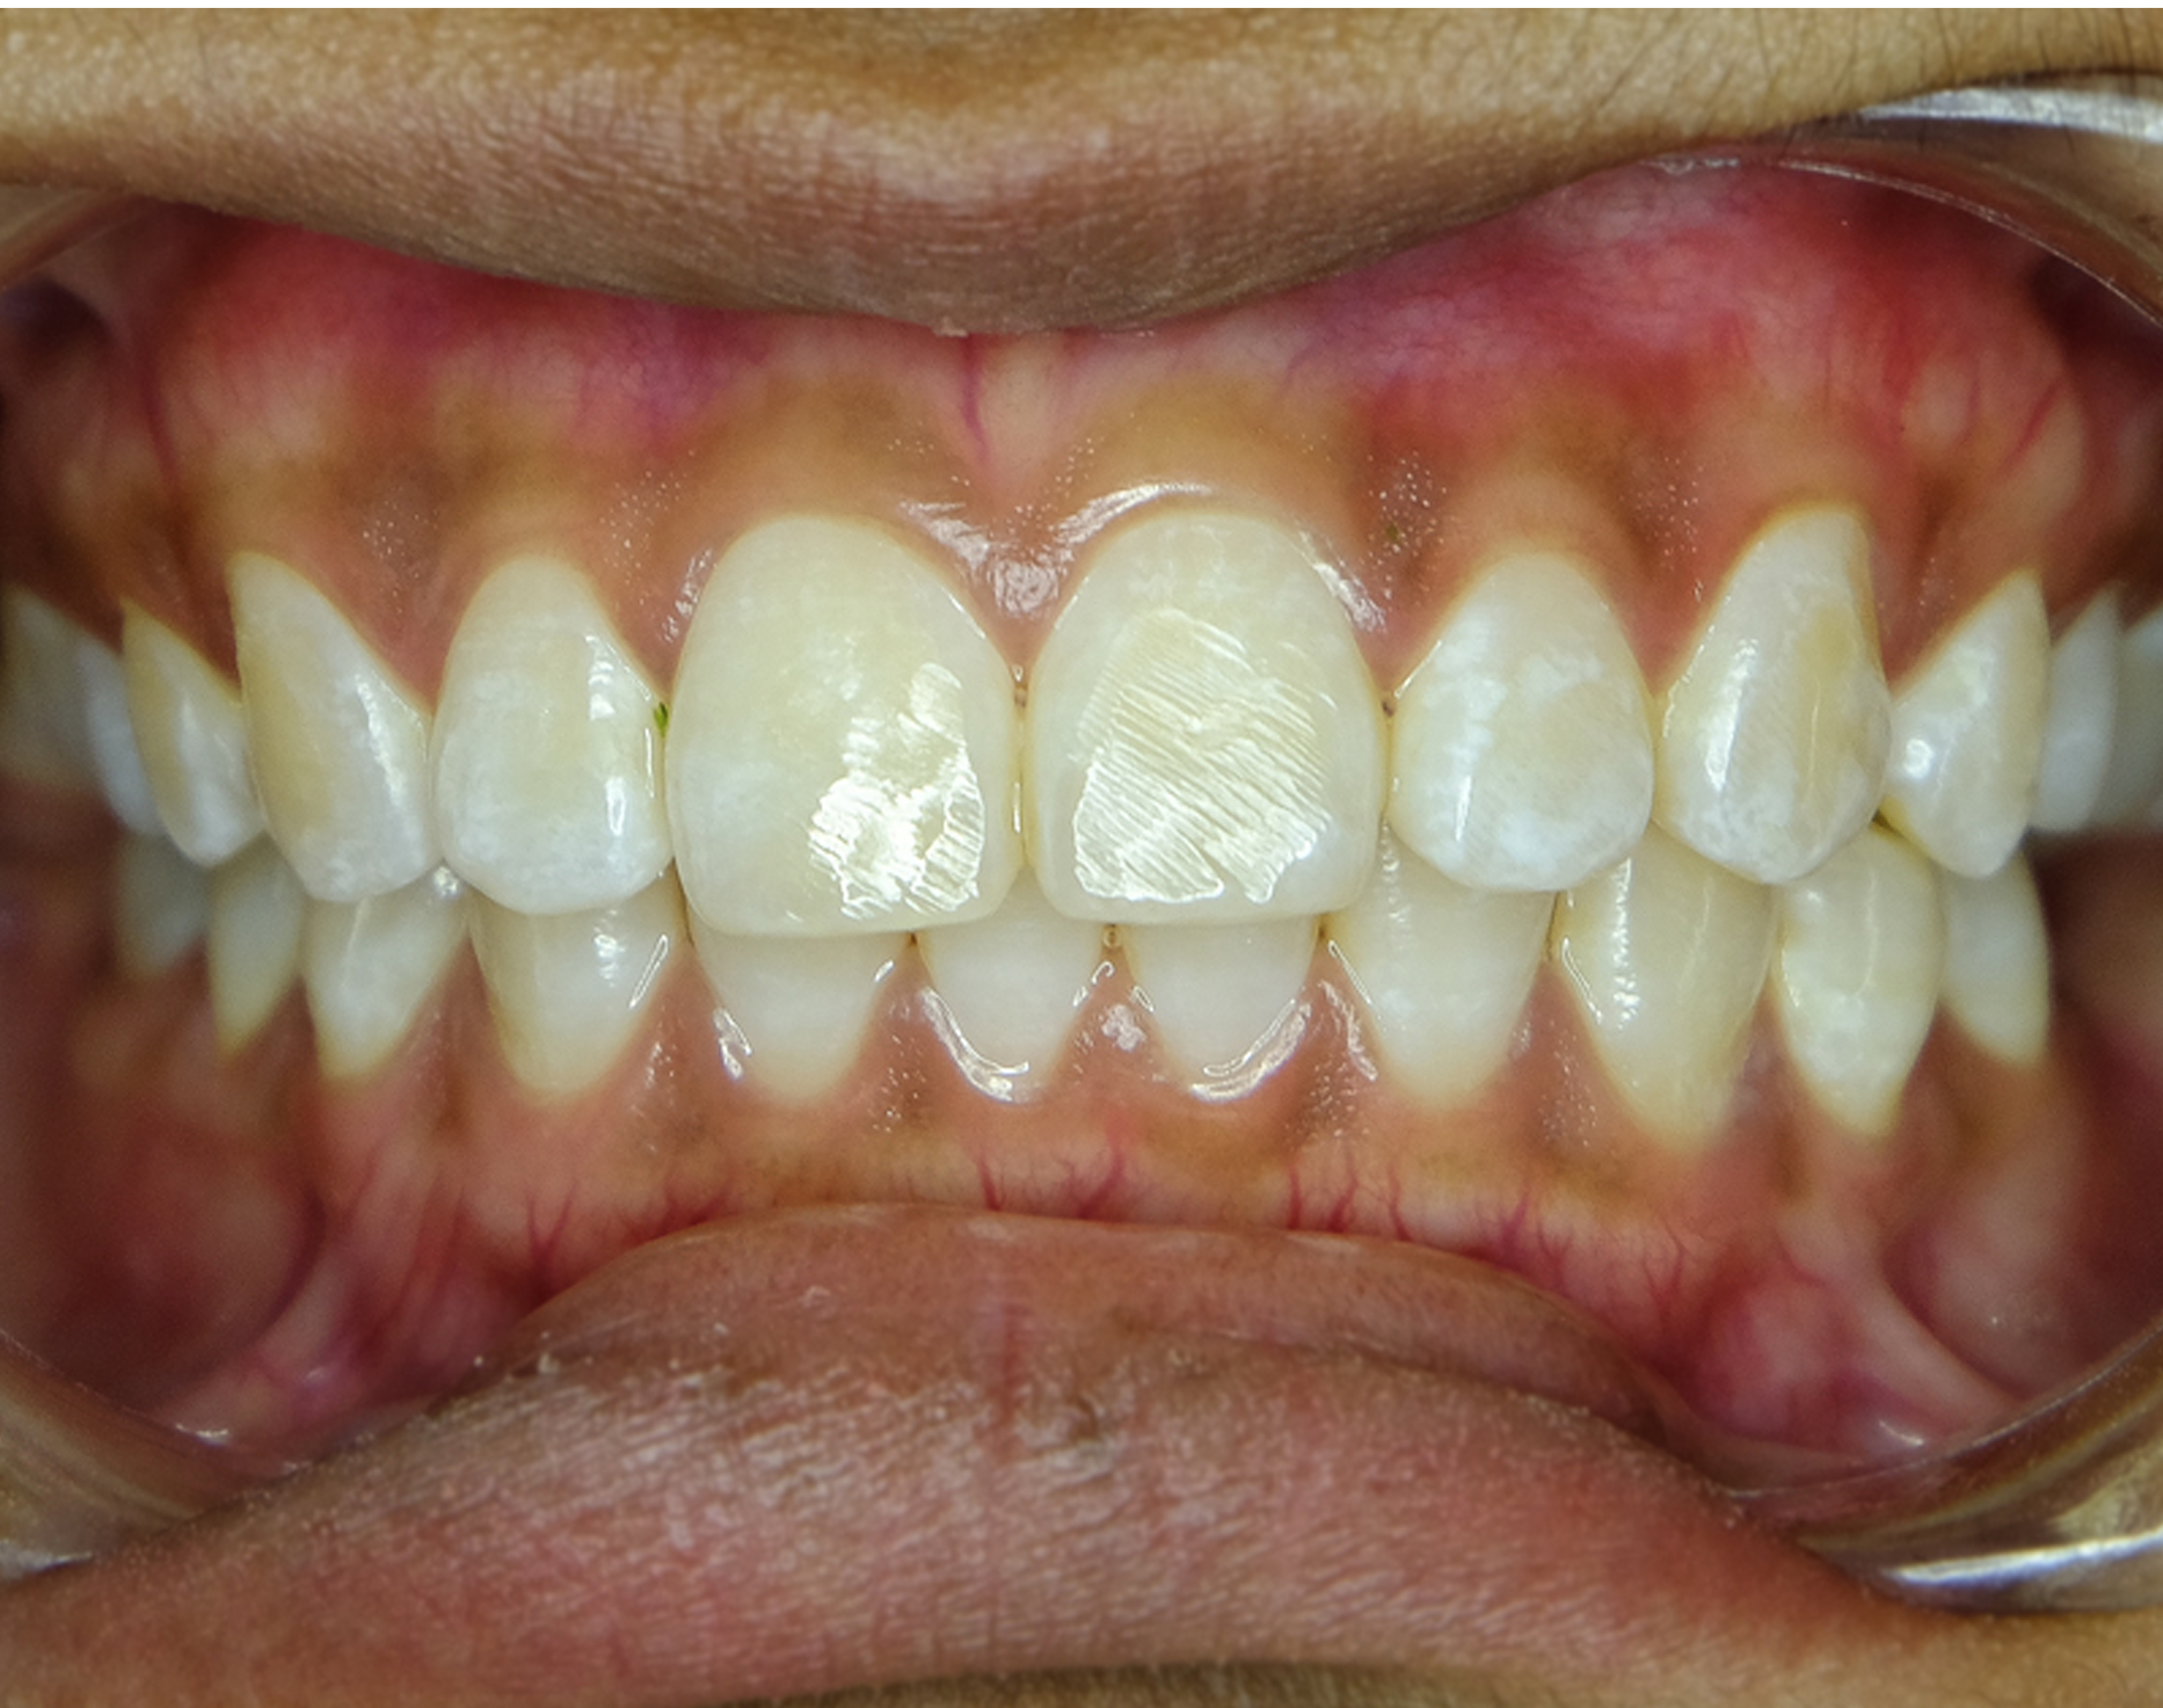UL1BC_healthy: (1900, 576, 2040, 876)
UL2BC_healthy: (2042, 592, 2116, 832)
ULCI_healthy: (1031, 516, 1382, 923)
ULC_healthy: (1659, 513, 1894, 881)
ULLI_healthy: (1399, 549, 1654, 885)
UR1BC_healthy: (125, 625, 253, 864)
URCI_healthy: (665, 521, 1025, 932)
URC_healthy: (228, 555, 428, 902)
URLI_healthy: (435, 558, 660, 911)
